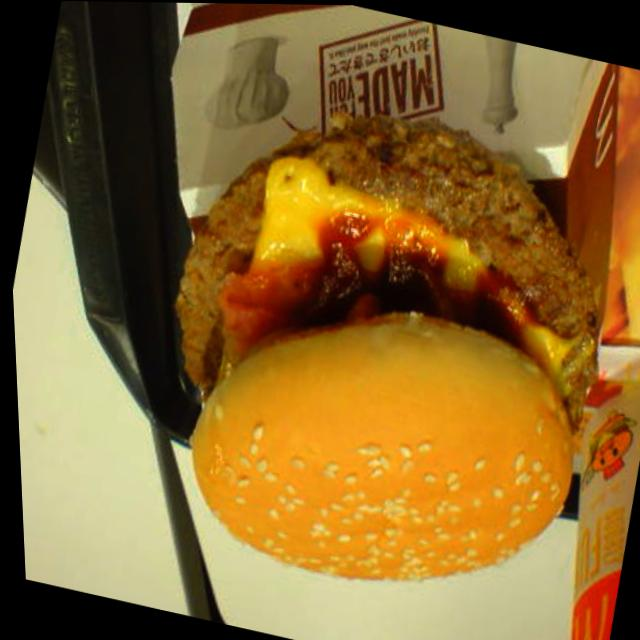汉堡快餐: (105, 75, 640, 640)
